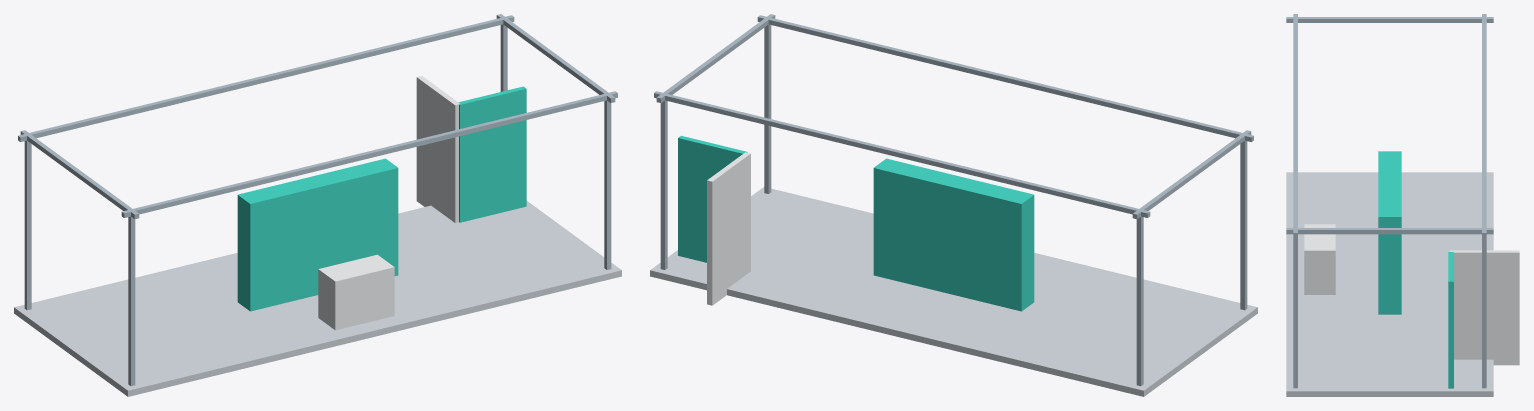
3 renders of one model, left to right at view 1: azimuth 30°, elevation 25°; view 2: azimuth 150°, elevation 25°; view 3: azimuth 270°, elevation 25°, orthographic. The views are drawn at different scales.
Parts seen in each view (by area): view 1: Exhibition Booth Concept; view 2: Exhibition Booth Concept; view 3: Exhibition Booth Concept.
Boxes of the visible parts, x1=… form: Exhibition Booth Concept: x1=14, y1=14, x2=621, y2=396; Exhibition Booth Concept: x1=650, y1=14, x2=1257, y2=396; Exhibition Booth Concept: x1=1286, y1=14, x2=1519, y2=396.
Size of the model in its own units: 10 by 3.49 by 4.51.
